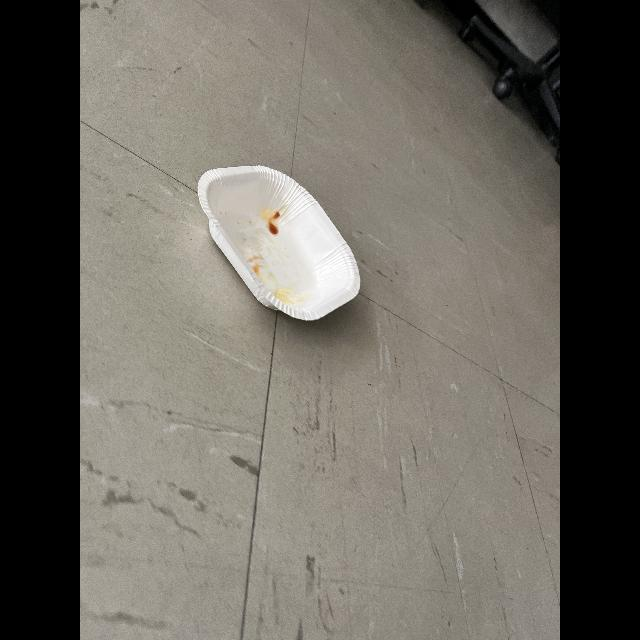cardboard_bowl: (194, 151, 366, 333)
